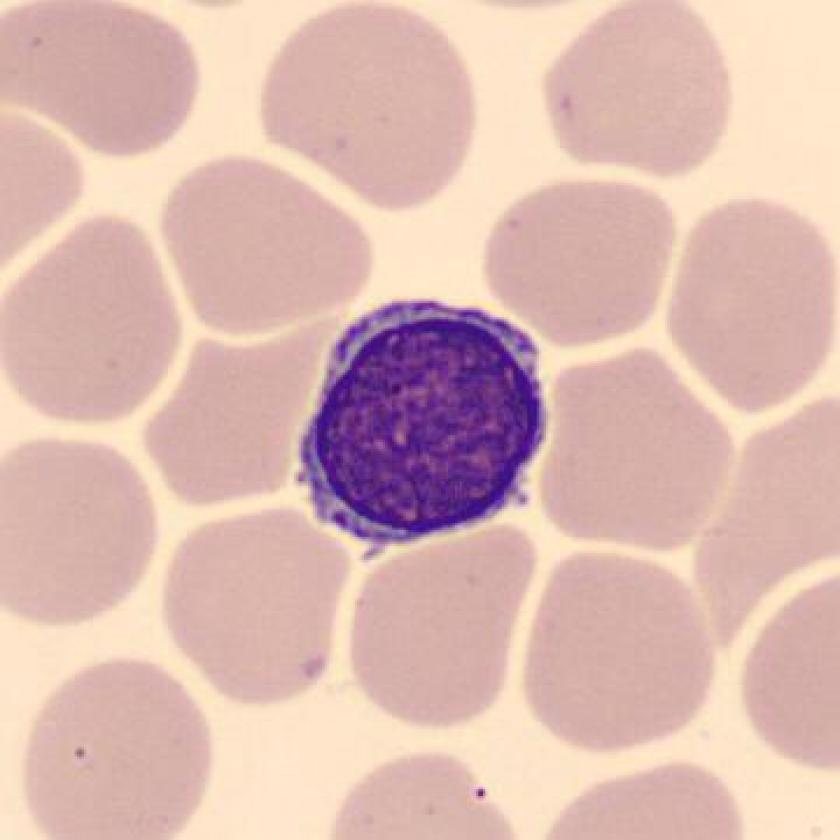lymphocyte: (276, 286, 568, 575)
